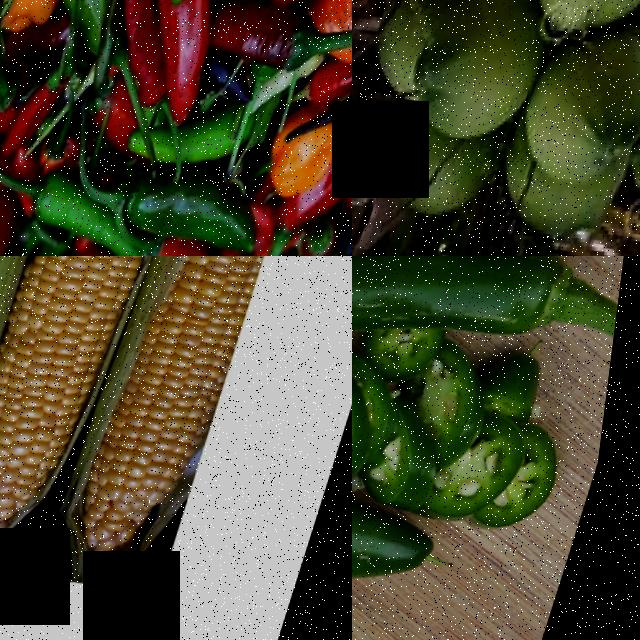chilli: (352, 256, 638, 419), (129, 157, 288, 256), (25, 163, 171, 256), (210, 0, 332, 86), (9, 46, 79, 164)
coconuts: (352, 0, 640, 256)
corn: (74, 256, 280, 581), (0, 256, 162, 558)
